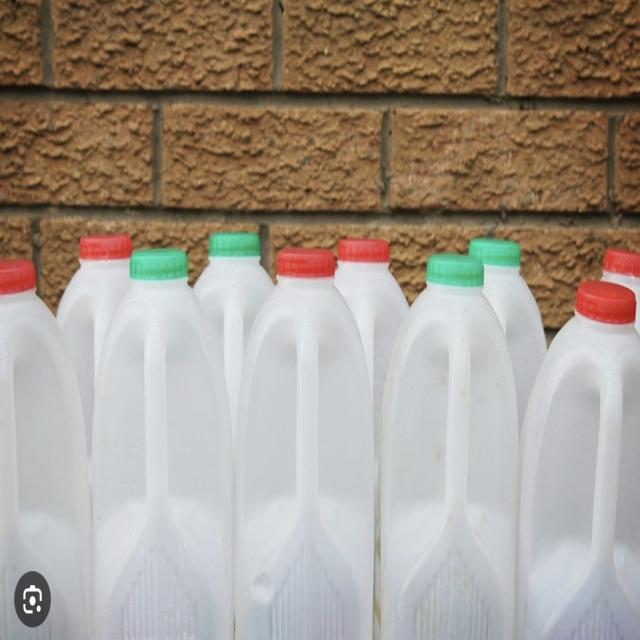recyclable: (214, 207, 383, 640), (80, 220, 234, 640), (374, 223, 527, 640)
